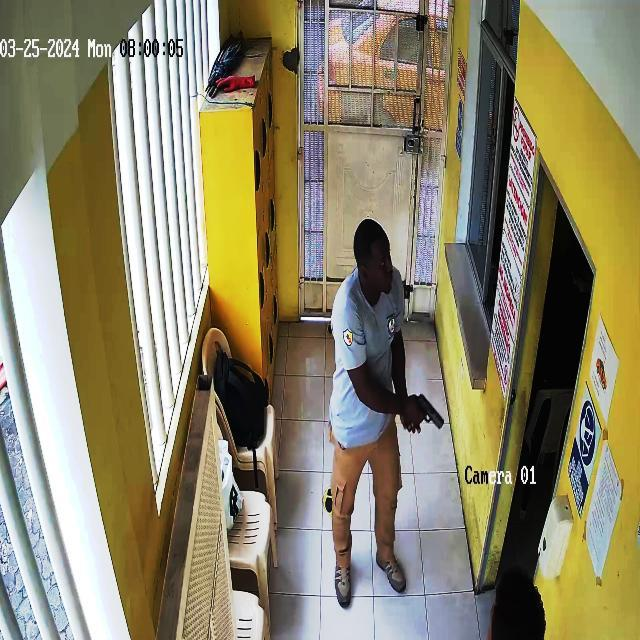Gun: (397, 373, 452, 444)
